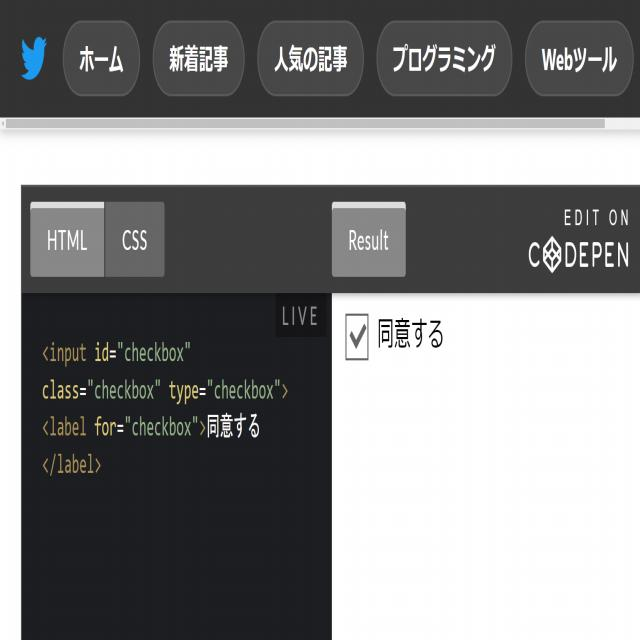checkbox: (345, 310, 370, 362)
